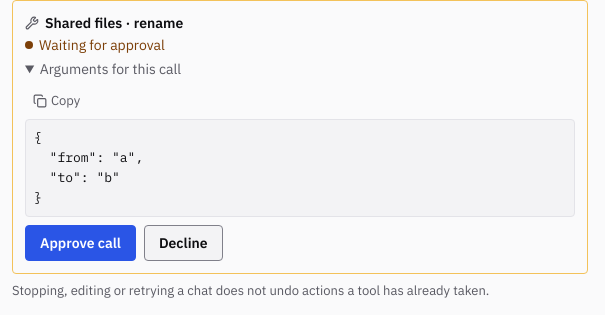
Test: shows exact arguments and submits one approval for the displayed answer
This screenshot has width=605, height=315.
expect the text "{ \"from\": \"a\", \"to\": \"b\" }" is shown: met, box [25,119,575,217]
Click the button with aria-label "Approve rename call": (80, 243) [25,225,136,261]
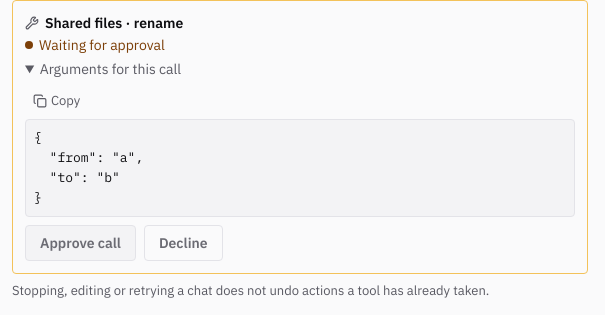
expect the button with aria-label "Approve rename call" is disabled: met, box [25,225,136,261]
